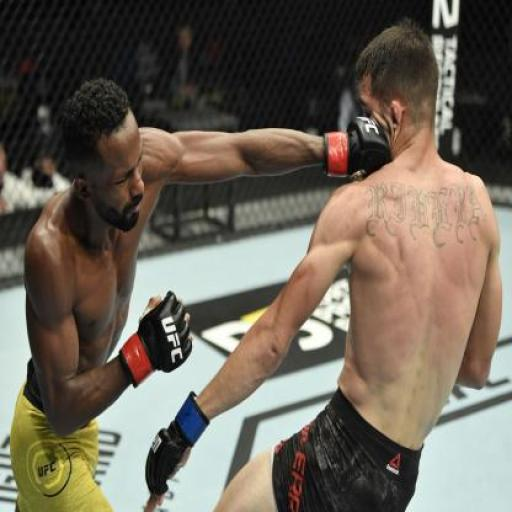Fighting: (12, 26, 500, 512)
